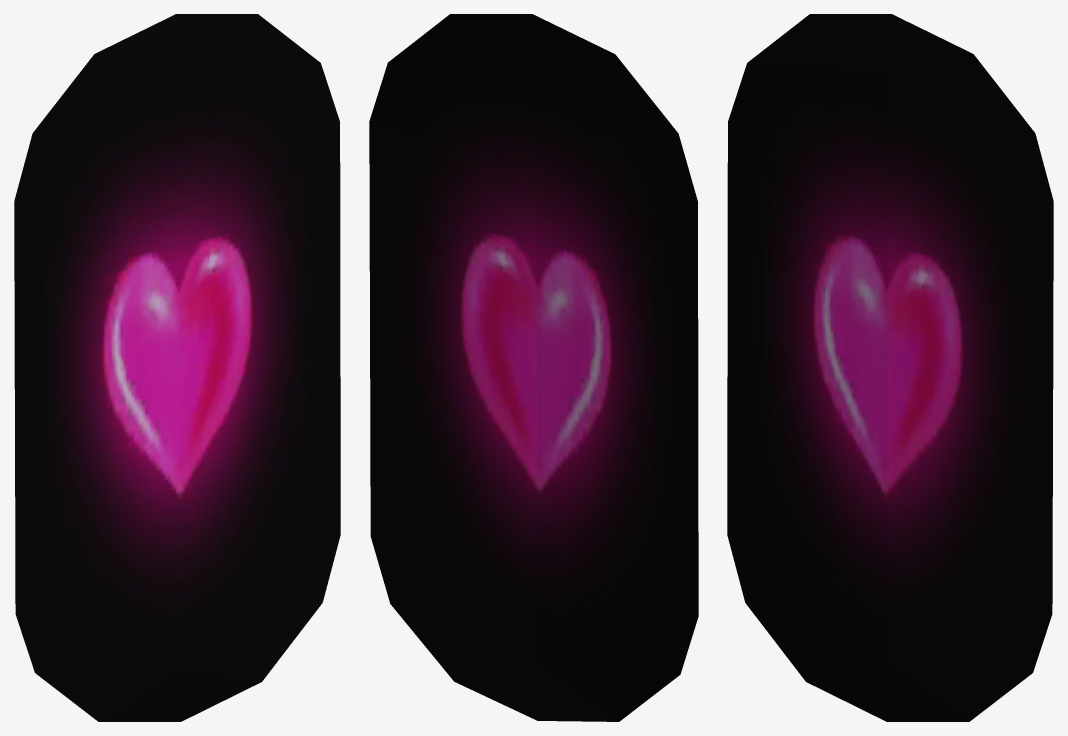
3 renders of one model, left to right at view 1: azimuth 30°, elevation 25°; view 2: azimuth 150°, elevation 25°; view 3: azimuth 330°, elevation 25°, orthographic.
Size of the model in its own units: 1.07 by 2.2 by 0.0375.
Materials: 1 (1 with a texture image).
